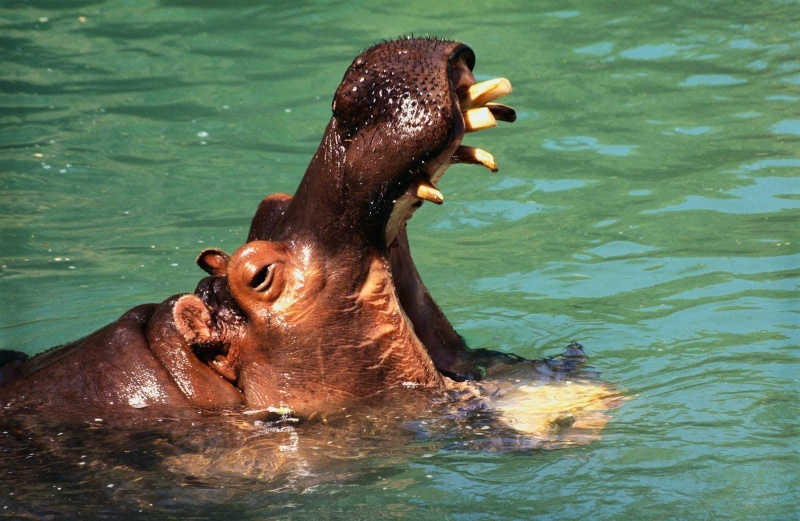hipopotamo: (2, 34, 619, 448)
